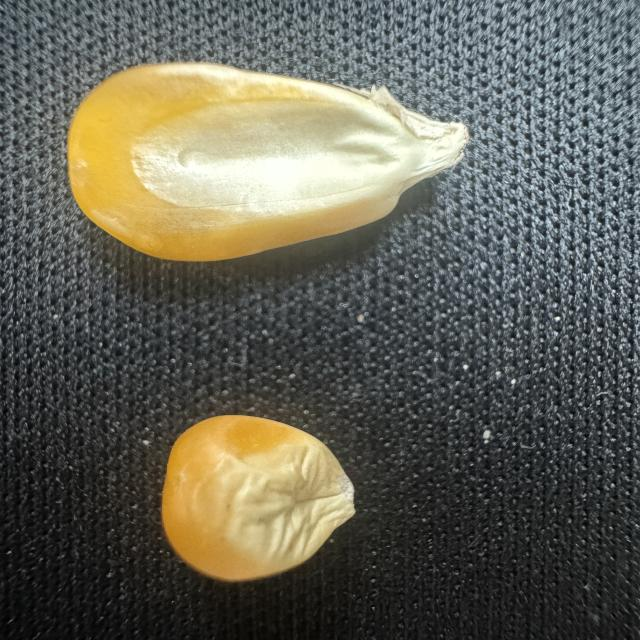Bad-Seed: (144, 398, 367, 590)
Good-Seed: (47, 53, 477, 274)
